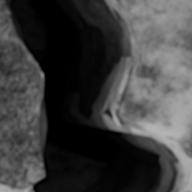broken_brick: (119, 0, 191, 158), (0, 0, 42, 189)
crack: (2, 0, 190, 191)
